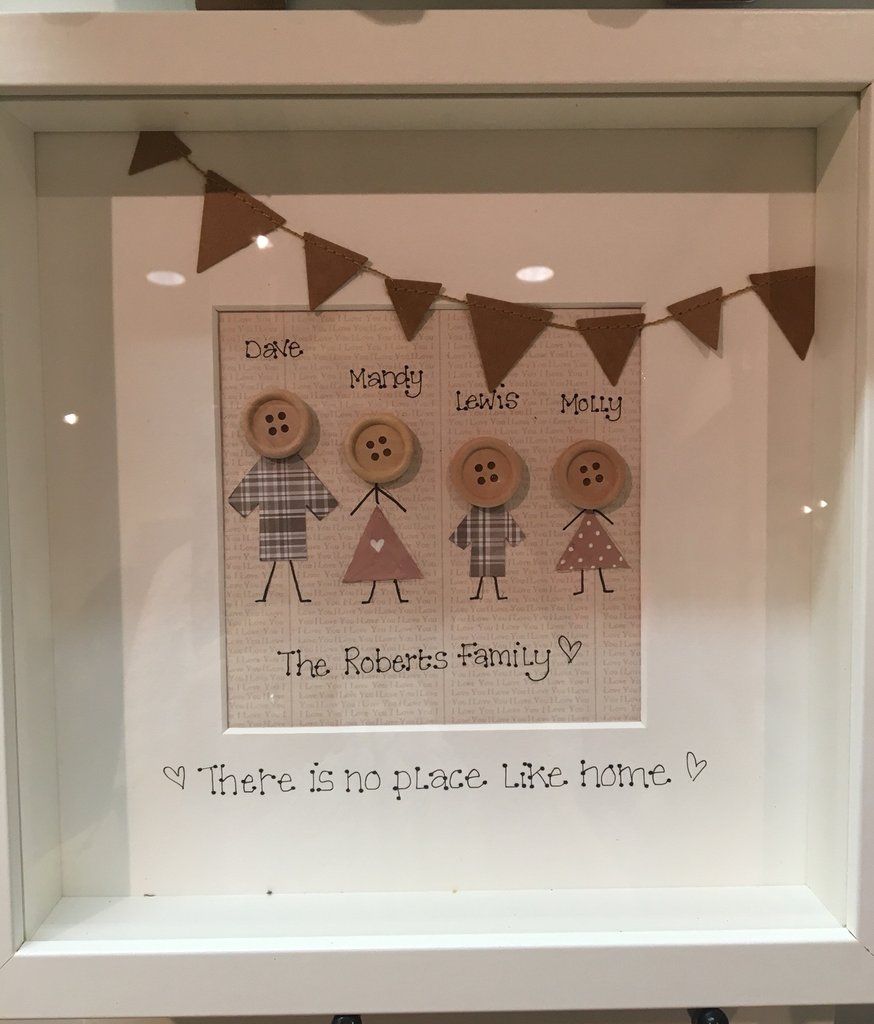foto: (10, 88, 874, 1012)
